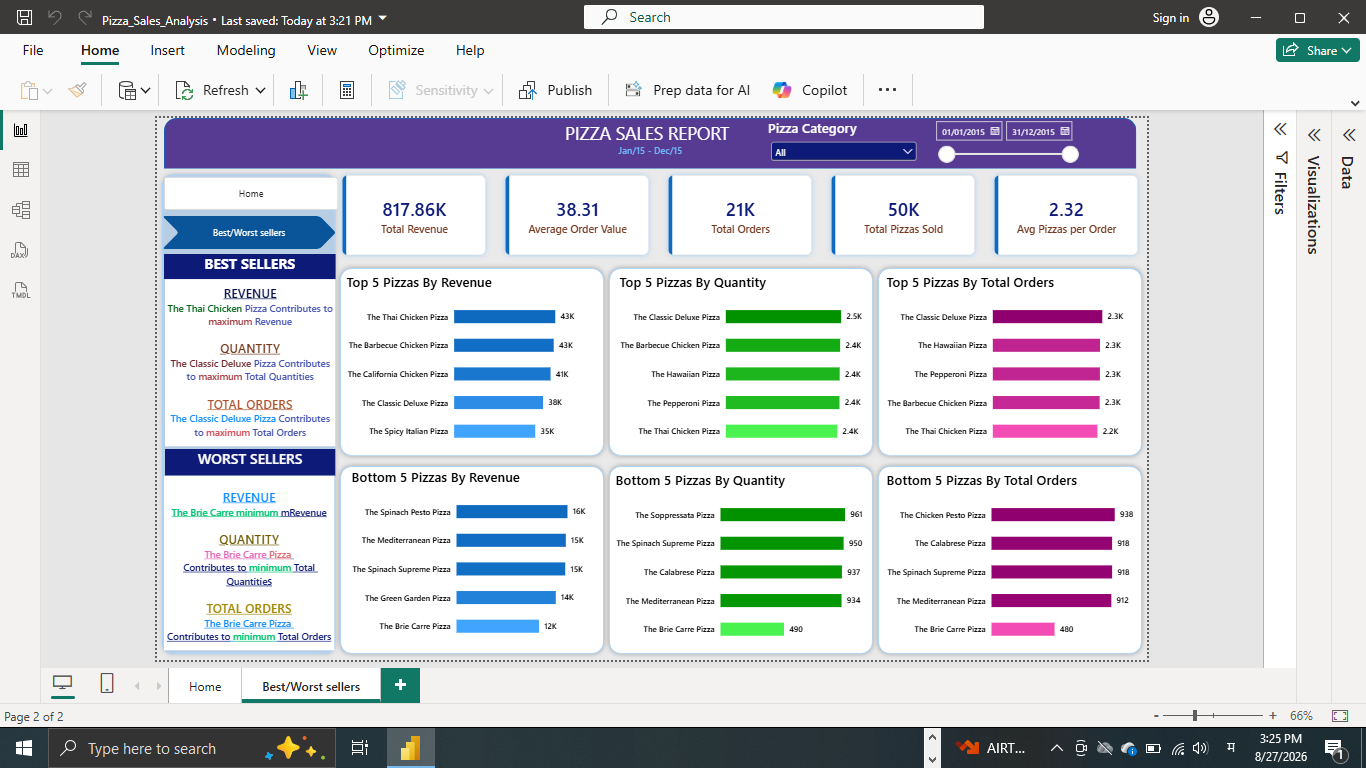

The dashboard page shown, as its layout file describes it:
{"tool":"powerbi","page":{"name":"Best/Worst sellers","canvas":[1500,820],"ordinal":1},"visuals":[{"type":"cardVisual","fields":{"Data":["pizza_sales.Total Revenue","pizza_sales.Average Order Value","pizza_sales.Total Orders","pizza_sales.Total Pizzas Sold","pizza_sales.Avg Pizzas per Order"]},"box":[270,76,1230,143],"z":0},{"type":"shape","box":[10,0,1473.3,76.7],"z":1000},{"type":"shape","box":[270,220,415,300],"z":2000},{"type":"shape","box":[0,76.7,278.3,743.3],"z":3000},{"type":"textbox","box":[564,4,358,40],"z":4000},{"type":"textbox","box":[1060,323.3,305,40],"z":5000},{"type":"shape","box":[1085,220,415,300],"z":8000},{"type":"shape","box":[676.7,220,415,300],"z":9000},{"type":"shape","box":[270,520,415,300],"z":10000},{"type":"shape","box":[1085,520,415,300],"z":11000},{"type":"textbox","box":[676,40,144,22],"z":11500},{"type":"shape","box":[676.7,520,415,300],"z":12000},{"type":"barChart","title":"Top 5 Pizzas By Revenue","fields":{"Category":["pizza_sales.pizza_name"],"Y":["pizza_sales.Total Revenue"]},"box":[271.7,220,406.7,300],"z":13000},{"type":"barChart","title":" Bottom 5 Pizzas By Revenue","fields":{"Category":["pizza_sales.pizza_name"],"Y":["pizza_sales.Total Revenue"]},"box":[278.3,515,406.7,300],"z":14000},{"type":"barChart","title":"Top 5 Pizzas By Quantity","fields":{"Category":["pizza_sales.pizza_name"],"Y":["pizza_sales.Total Pizzas Sold"]},"box":[685,220,406.7,300],"z":15000},{"type":"barChart","title":"Bottom 5 Pizzas By Quantity","fields":{"Category":["pizza_sales.pizza_name"],"Y":["pizza_sales.Total Pizzas Sold"]},"box":[678.3,520,406.7,300],"z":16000},{"type":"barChart","title":"Top 5 Pizzas By Total Orders","fields":{"Category":["pizza_sales.pizza_name"],"Y":["pizza_sales.Total Orders"]},"box":[1090,220,406.7,300],"z":17000},{"type":"barChart","title":"Bottom 5 Pizzas By Total Orders","fields":{"Category":["pizza_sales.pizza_name"],"Y":["pizza_sales.Total Orders"]},"box":[1090,520,406.7,300],"z":18000},{"type":"textbox","box":[12,234,258,264],"z":20000},{"type":"textbox","box":[10,206,260,38],"z":21000},{"type":"textbox","box":[12,502,258,40],"z":22000},{"type":"textbox","box":[10,542,258,264],"z":23000},{"type":"pageNavigator","box":[8,148,264,50],"z":24000},{"type":"pageNavigator","box":[10,90,264,50],"z":25000},{"type":"slicer","title":"Pizza Category","fields":{"Values":["pizza_sales.order_date"]},"box":[1173.3,0,226.7,76.7],"z":25250},{"type":"slicer","title":"Pizza Category","fields":{"Values":["pizza_sales.pizza_category"]},"box":[925,0,230,76.7],"z":25500}]}

Visuals, with their boxes on the page's 1500x820 design canvas (x1, y1, x2, y2). These are canvas units, not pixel positions in the 1366x768 screenshot, which may show the page scaled, cropped or inside an application window:
cardVisual - pizza_sales.Total Revenue x pizza_sales.Average Order Value: select_region(270, 76, 1500, 219)
shape: select_region(10, 0, 1483, 77)
shape: select_region(270, 220, 685, 520)
shape: select_region(0, 77, 278, 820)
textbox: select_region(564, 4, 922, 44)
textbox: select_region(1060, 323, 1365, 363)
shape: select_region(1085, 220, 1500, 520)
shape: select_region(677, 220, 1092, 520)
shape: select_region(270, 520, 685, 820)
shape: select_region(1085, 520, 1500, 820)
textbox: select_region(676, 40, 820, 62)
shape: select_region(677, 520, 1092, 820)
"Top 5 Pizzas By Revenue" barChart: select_region(272, 220, 678, 520)
" Bottom 5 Pizzas By Revenue" barChart: select_region(278, 515, 685, 815)
"Top 5 Pizzas By Quantity" barChart: select_region(685, 220, 1092, 520)
"Bottom 5 Pizzas By Quantity" barChart: select_region(678, 520, 1085, 820)
"Top 5 Pizzas By Total Orders" barChart: select_region(1090, 220, 1497, 520)
"Bottom 5 Pizzas By Total Orders" barChart: select_region(1090, 520, 1497, 820)
textbox: select_region(12, 234, 270, 498)
textbox: select_region(10, 206, 270, 244)
textbox: select_region(12, 502, 270, 542)
textbox: select_region(10, 542, 268, 806)
pageNavigator: select_region(8, 148, 272, 198)
pageNavigator: select_region(10, 90, 274, 140)
"Pizza Category" slicer: select_region(1173, 0, 1400, 77)
"Pizza Category" slicer: select_region(925, 0, 1155, 77)
